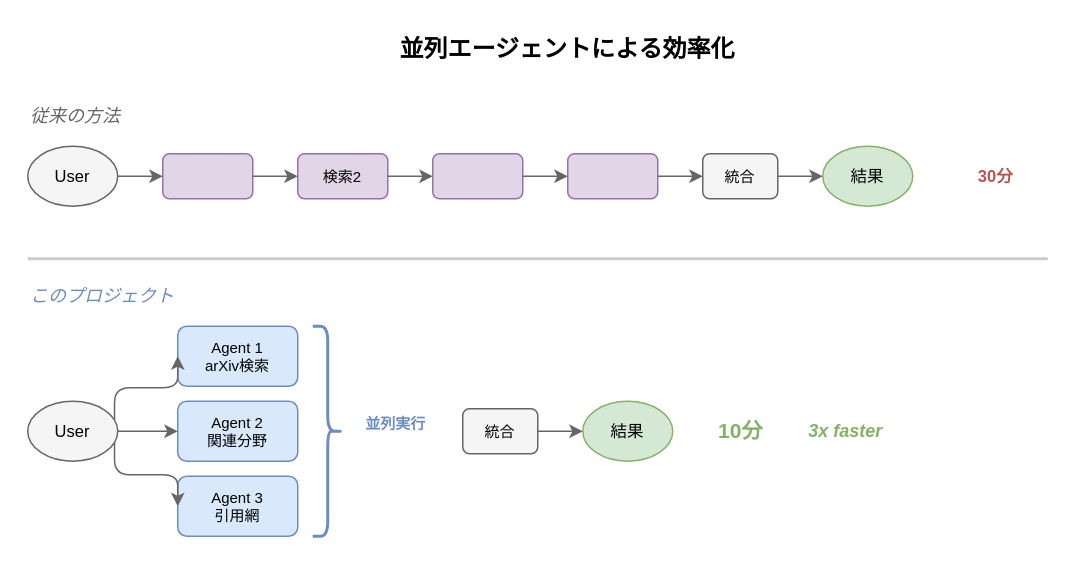
Some shapes in this 1074 by 563 pixel diagram are drawn without their labels. Here are the shapes that lost their labels. From the top down, the centre of each, then its label:
At (x=207, y=175): "検索1".
At (x=477, y=175): "検索3".
At (x=612, y=175): "検索4".
